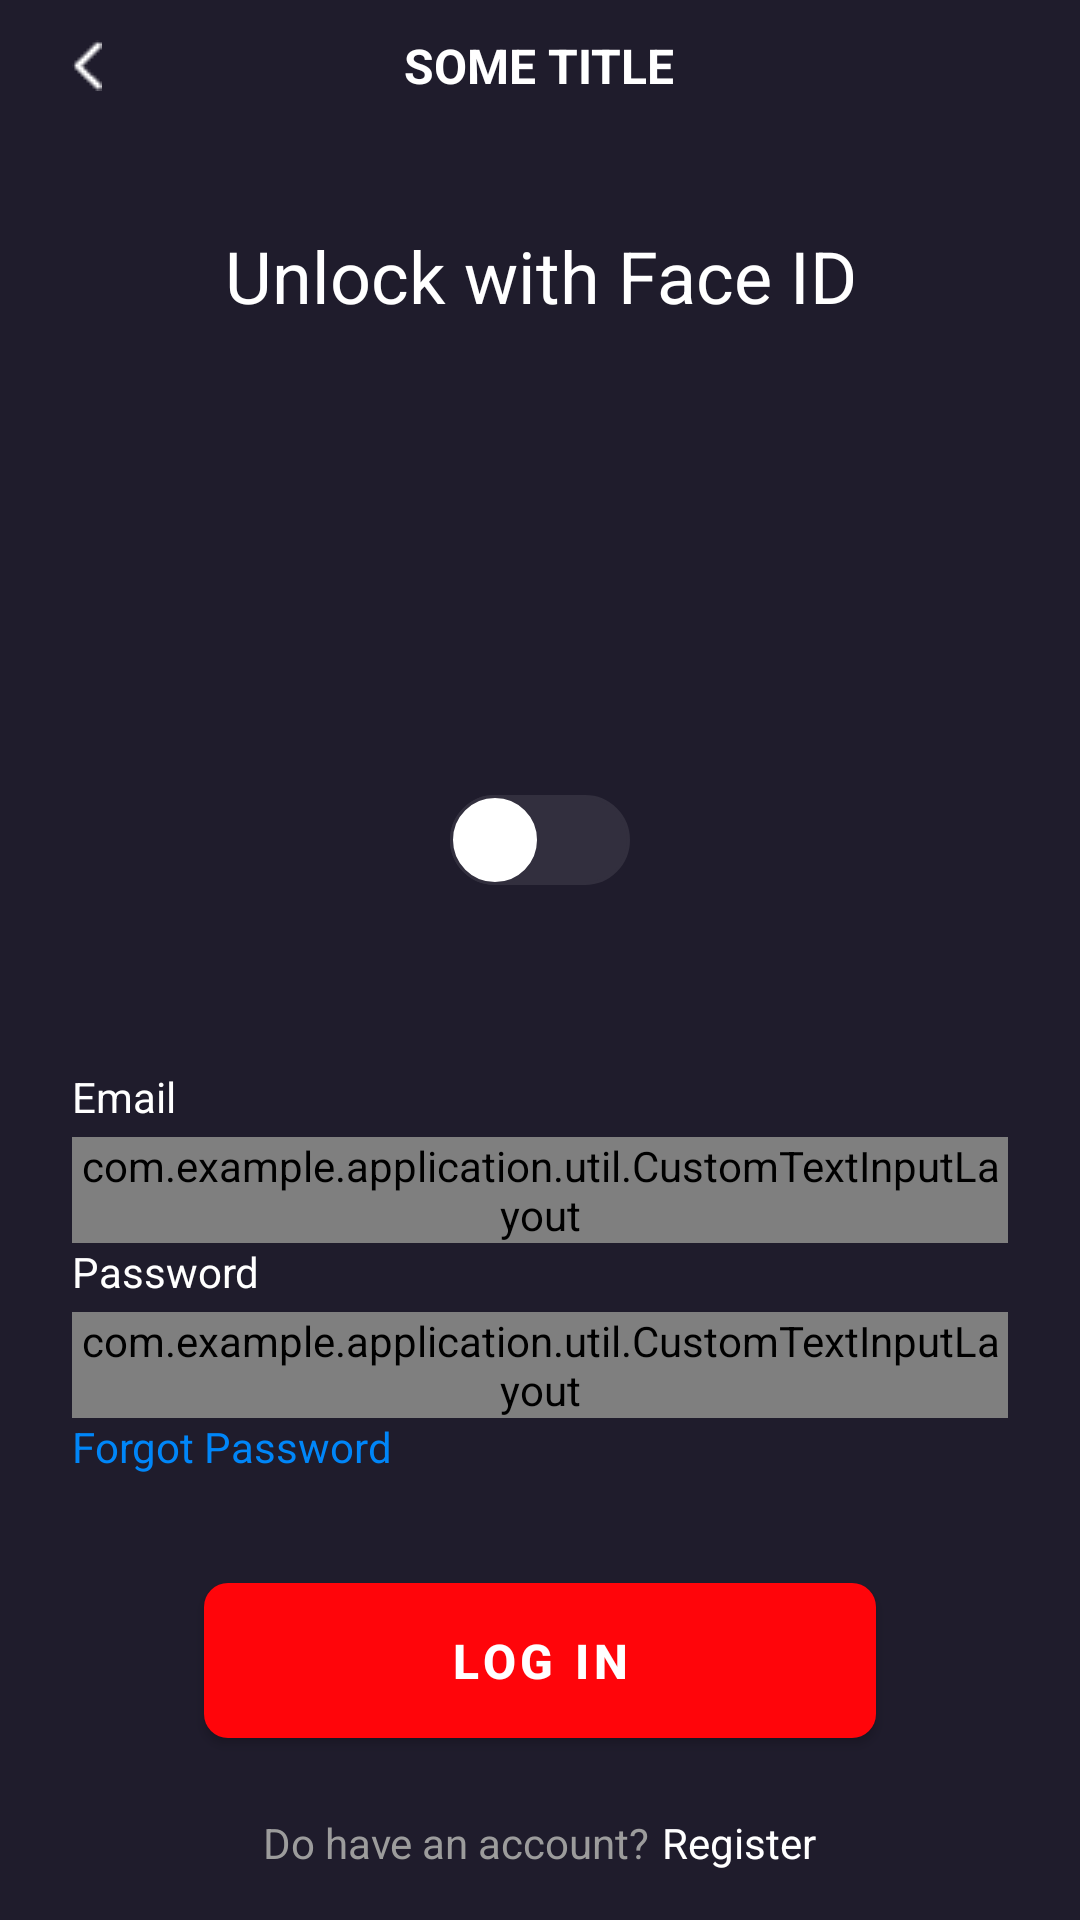

Locate icon controls on the screen. Image size 1080×1920, boxes as Rect(x1, y1, x2, y2).
back: Rect(74, 42, 102, 91)
